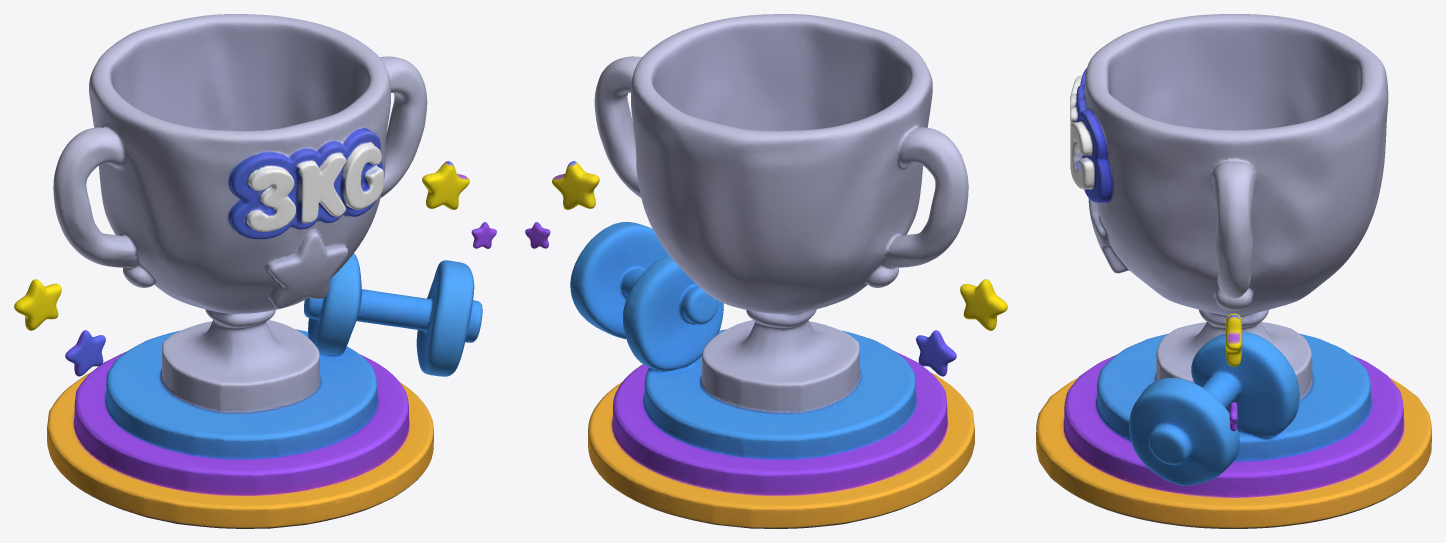
Rendered from 3kg_trophy.glb.
3 renders of one model, left to right at view 1: azimuth 30°, elevation 25°; view 2: azimuth 150°, elevation 25°; view 3: azimuth 270°, elevation 25°, orthographic.
Bounding box in the file's own units: 1.9 × 1.41 × 1.35.
Materials: 1 (1 with a texture image).
